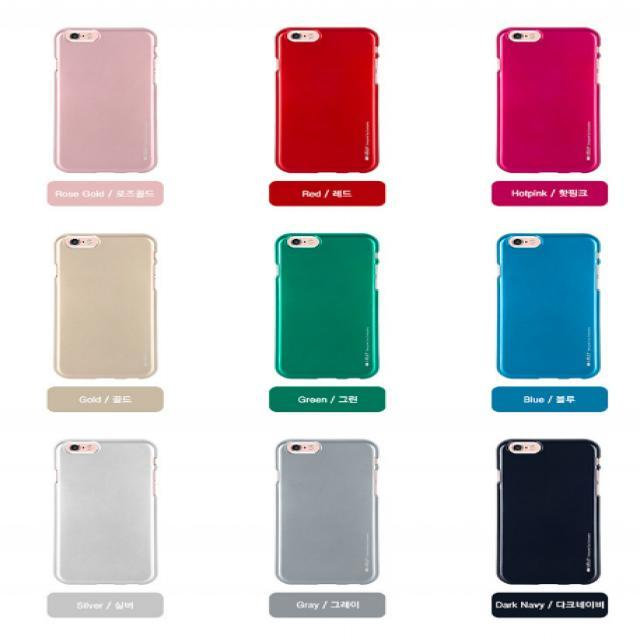phone: (274, 232, 379, 380), (495, 232, 600, 380), (274, 27, 379, 174), (495, 438, 600, 585), (53, 438, 157, 586), (54, 27, 158, 174), (274, 438, 378, 585), (496, 27, 600, 173), (54, 233, 157, 380)
